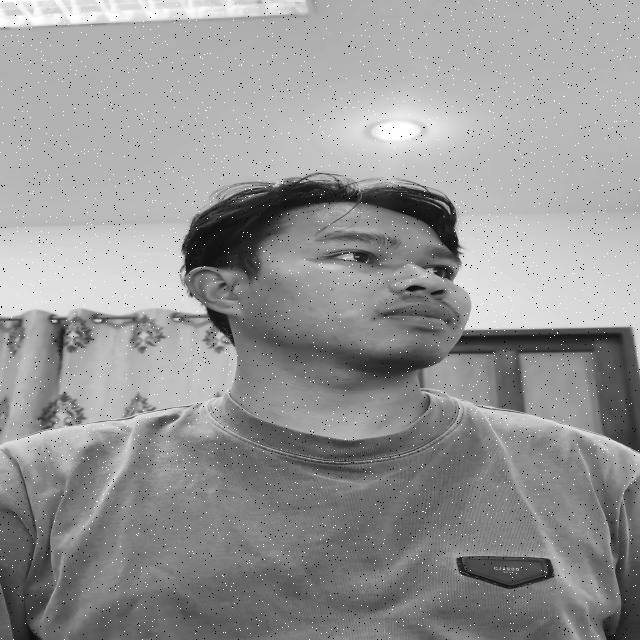ear: (184, 266, 243, 316), (244, 276, 246, 278)
